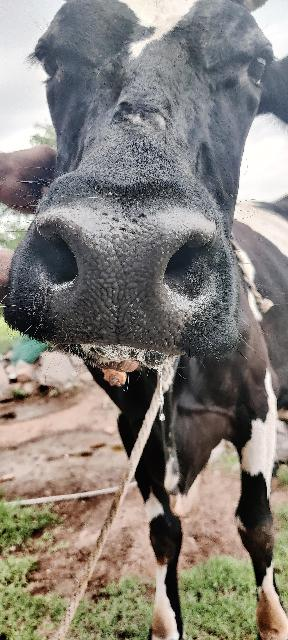Muzzle: (56, 205, 178, 348)
